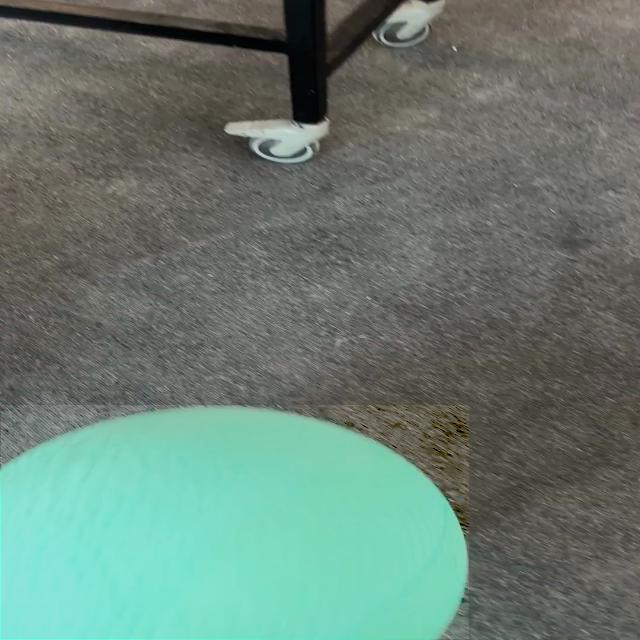Algae: (1, 405, 469, 639)
